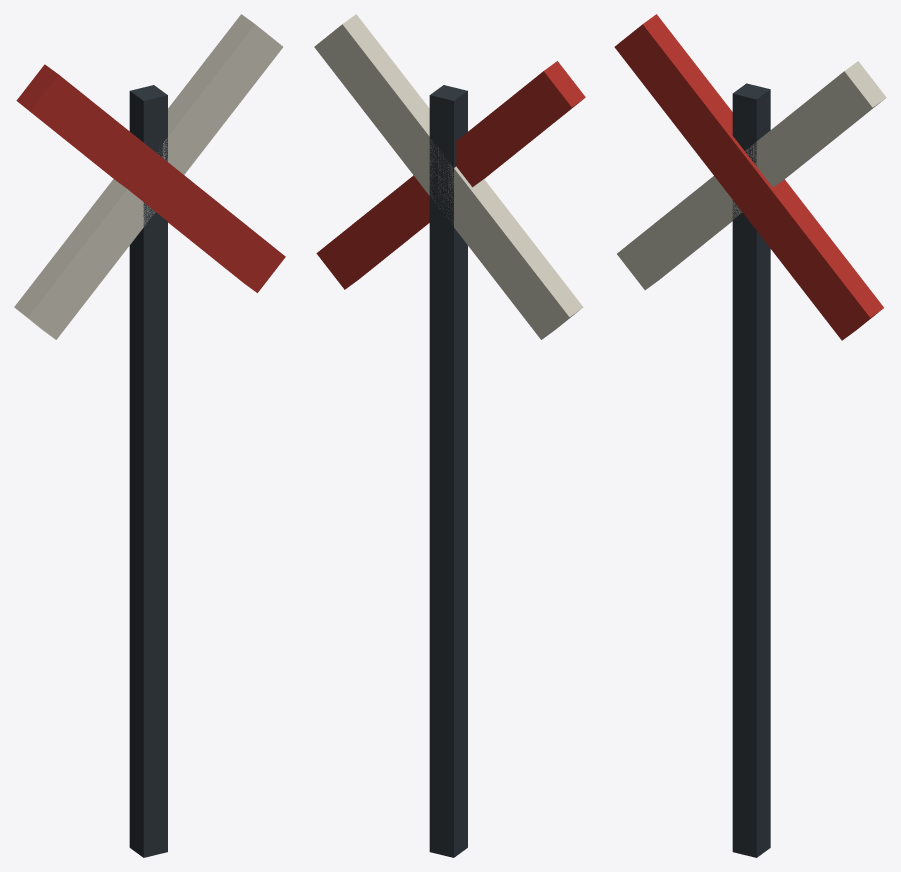
File: rail-crossing-sign.glb
3 views of the same model, side by side, from view 1: azimuth 30°, elevation 25°; view 2: azimuth 150°, elevation 25°; view 3: azimuth 330°, elevation 25° (orthographic).
Visible parts, largest first — view 1: rail-crossing-sign; view 2: rail-crossing-sign; view 3: rail-crossing-sign.
Part boxes in pixels (x1,y1,x2,y2): rail-crossing-sign: [14, 14, 285, 857]; rail-crossing-sign: [314, 14, 585, 857]; rail-crossing-sign: [614, 14, 886, 857].
Bounding box in the file's own units: 1.27 × 3.84 × 0.14.
